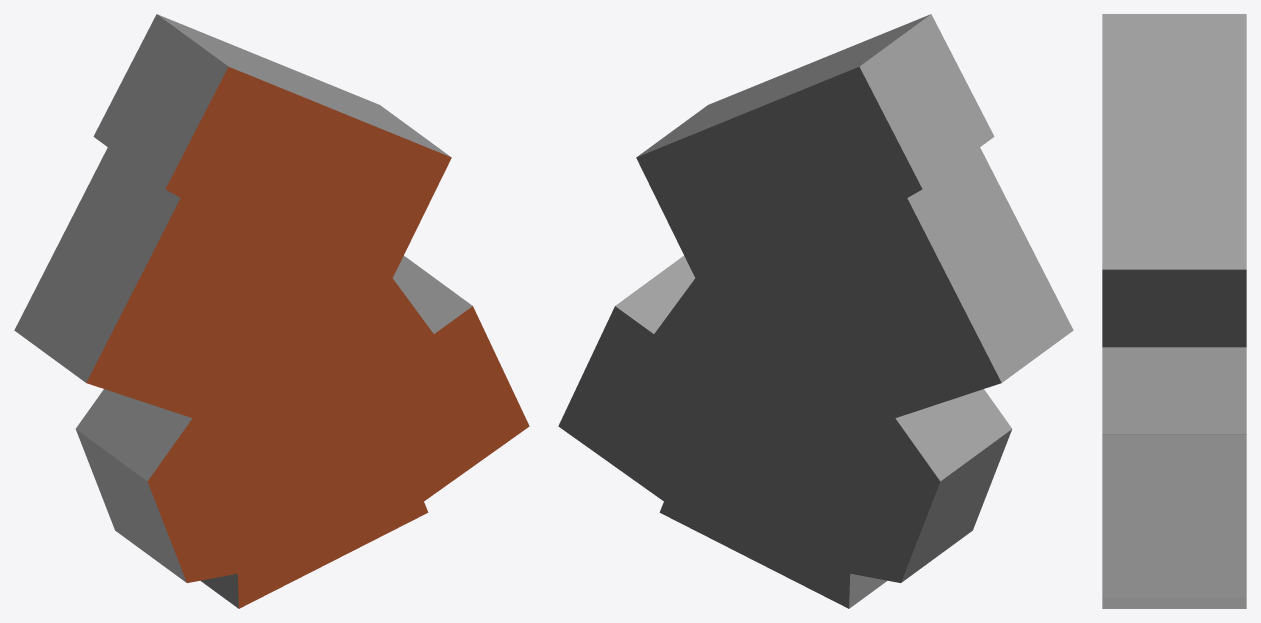
Rendered from construction_5820_assumed_A_Casa_h6m.obj.
3 views of the same model, side by side, from view 1: azimuth 30°, elevation 25°; view 2: azimuth 150°, elevation 25°; view 3: azimuth 270°, elevation 25° (orthographic).
Parts seen in each view (by area): view 1: construction_5820_assumed_A_Casa; view 2: construction_5820_assumed_A_Casa; view 3: construction_5820_assumed_A_Casa.
Part boxes in pixels (box(x1,y1,x2,y2)): construction_5820_assumed_A_Casa: box(14, 14, 529, 608); construction_5820_assumed_A_Casa: box(558, 14, 1073, 608); construction_5820_assumed_A_Casa: box(1102, 14, 1246, 608).
Size of the model in its own units: 21.36 by 25.07 by 6.
